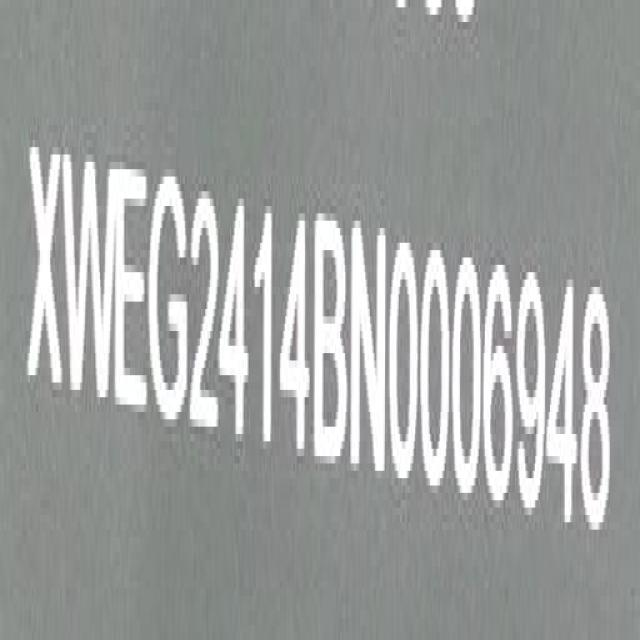0: (389, 235, 420, 489), (422, 244, 452, 498), (454, 257, 483, 504)
1: (254, 191, 276, 458)
2: (191, 182, 224, 448)
4: (280, 203, 314, 469), (220, 192, 251, 454), (550, 277, 580, 534)
6: (483, 258, 515, 511)
8: (582, 280, 618, 539)
9: (517, 272, 547, 520)
B: (316, 206, 350, 473)
E: (116, 154, 151, 426)
G: (150, 161, 190, 430)
N: (350, 212, 388, 490)
W: (63, 144, 117, 416)
X: (26, 131, 67, 413)
